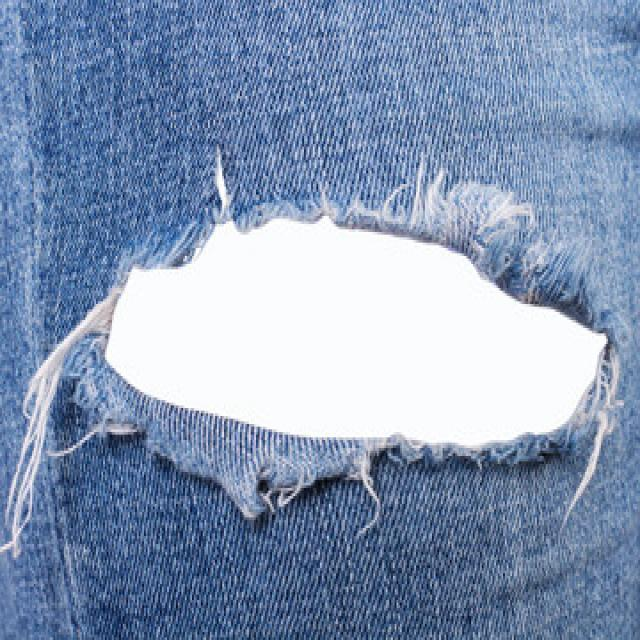Hole: (63, 187, 625, 522)
